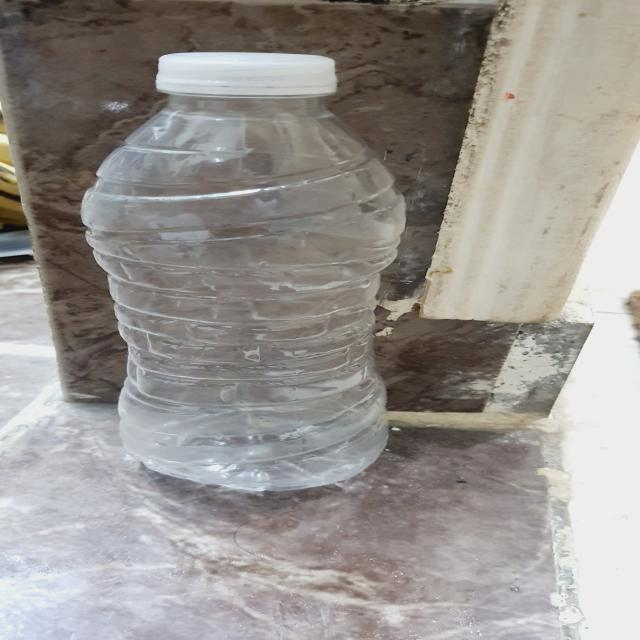plastic: (79, 52, 408, 491)
